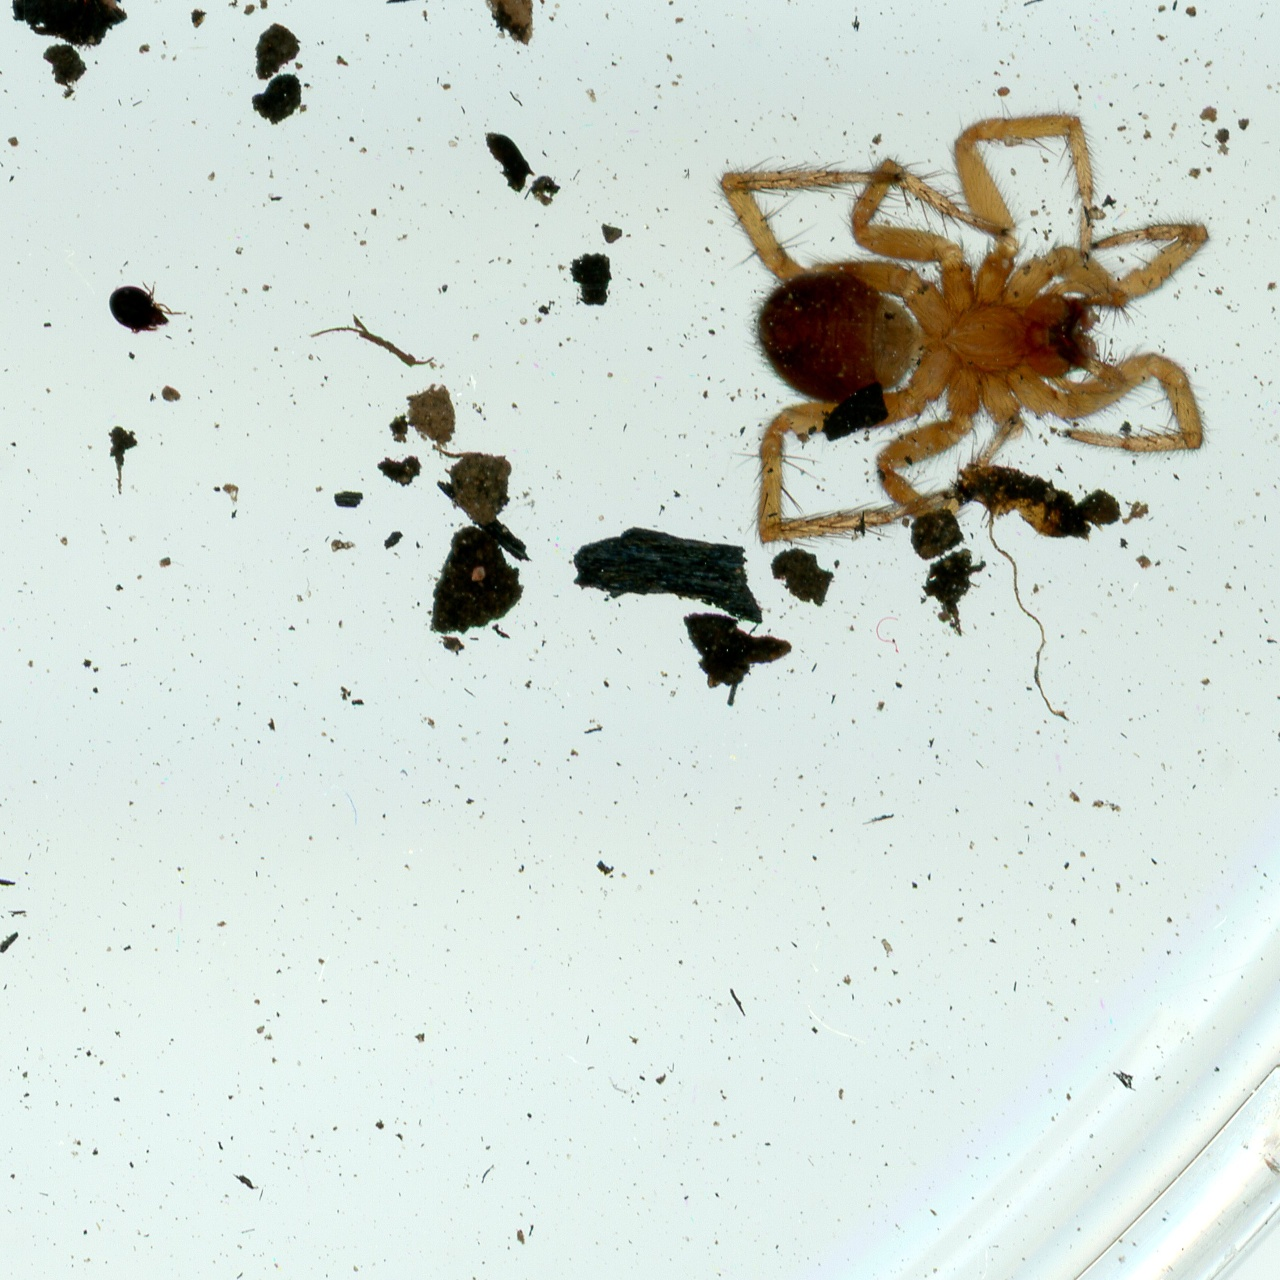arthropod: (692, 90, 1228, 557), (101, 275, 191, 340)
